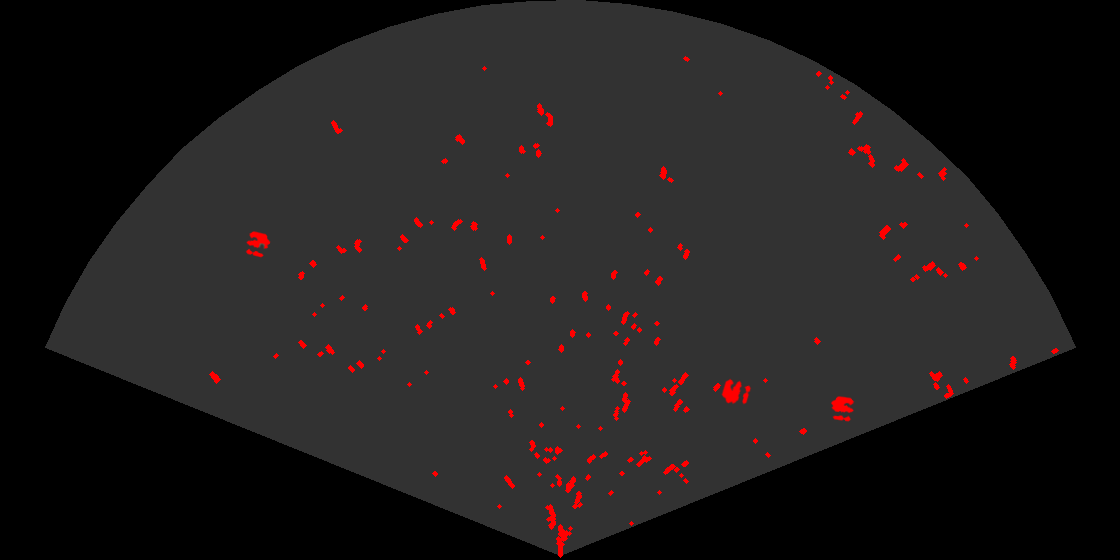ball: (720, 377, 753, 406), (244, 230, 272, 259), (830, 395, 856, 423)
